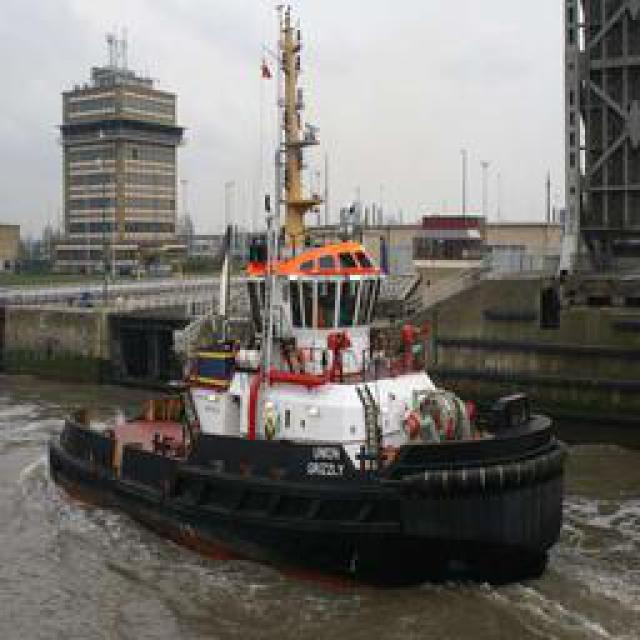Ship: (39, 201, 564, 586)
